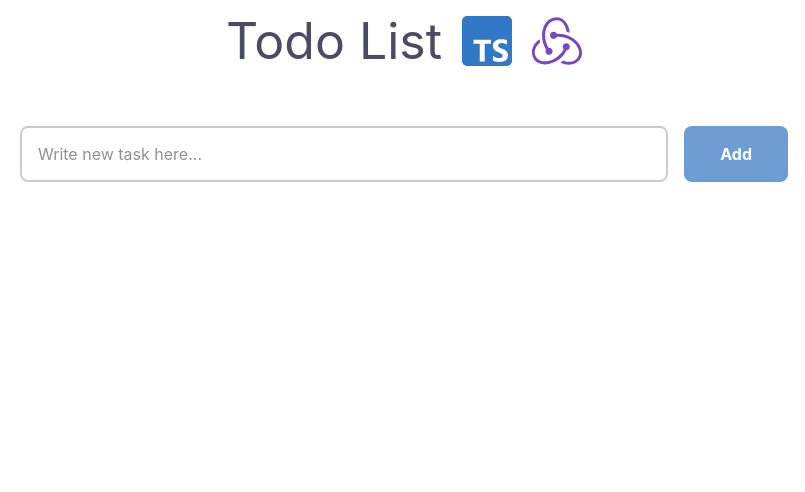
Scenario: My First E2E Test › deleting todo works properly
This screenshot has width=805, height=492.
Check: the text "Todo number one" is not shown
Type "Todo number one" into the field with id "new-todo-input". click: (344,154)
box: top-left (20, 126), bottom-right (668, 182)
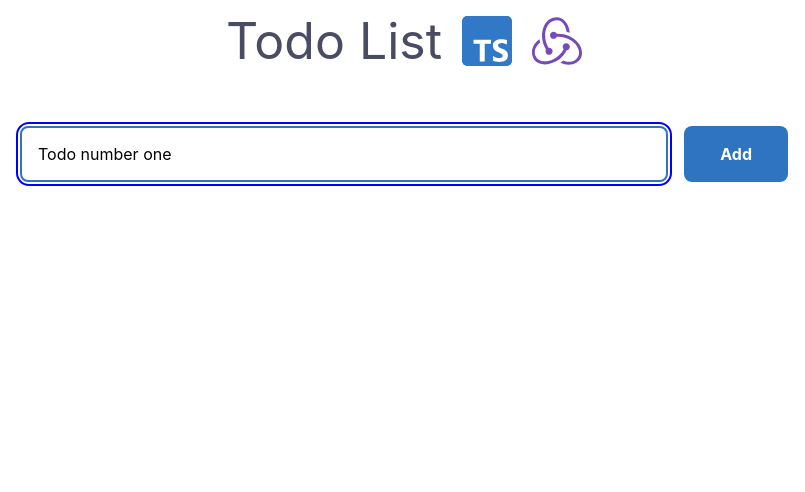
Click the button "Add". click: (736,154)
box: top-left (684, 126), bottom-right (788, 182)
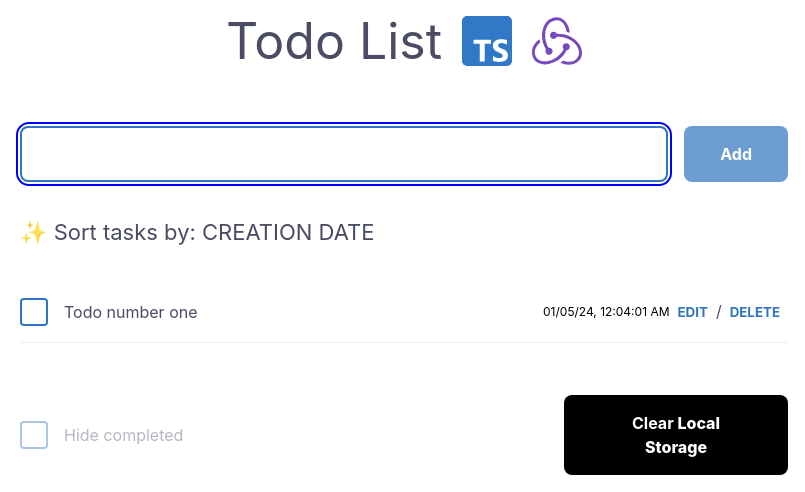
Check: the checkbox "Todo number one" is shown, box top-left (64, 300), bottom-right (198, 324)
Click the button "Delete". click: (755,312)
box: top-left (722, 300), bottom-right (788, 324)
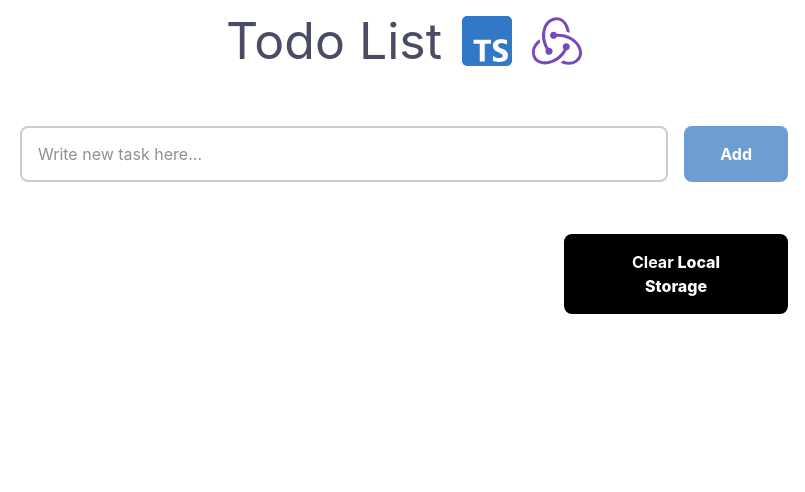
Check: the checkbox "Todo number one" is gone
